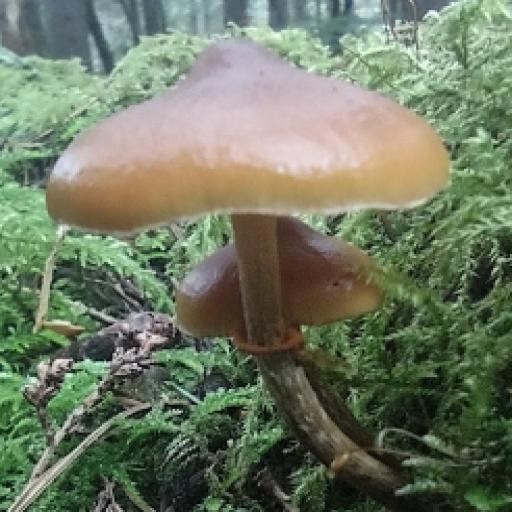Funeral Bell: (48, 38, 456, 491)
